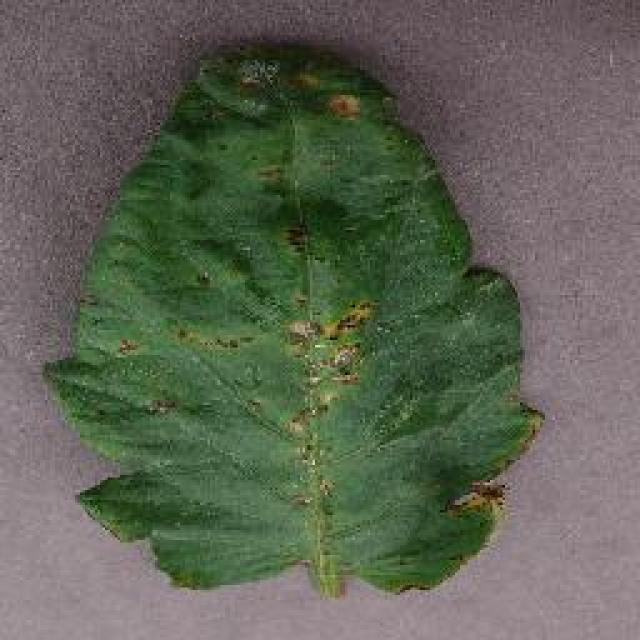Tomato bacterial spot leaf: (41, 32, 548, 600)
